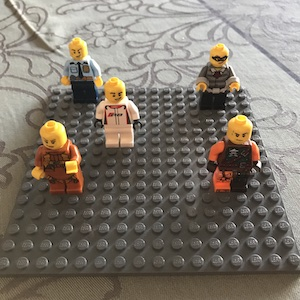Lego: (206, 115, 261, 195), (30, 119, 83, 200), (93, 78, 140, 152), (191, 41, 241, 109), (61, 36, 102, 105)
